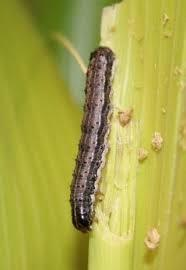fallarmy_worm: (62, 41, 121, 238)
